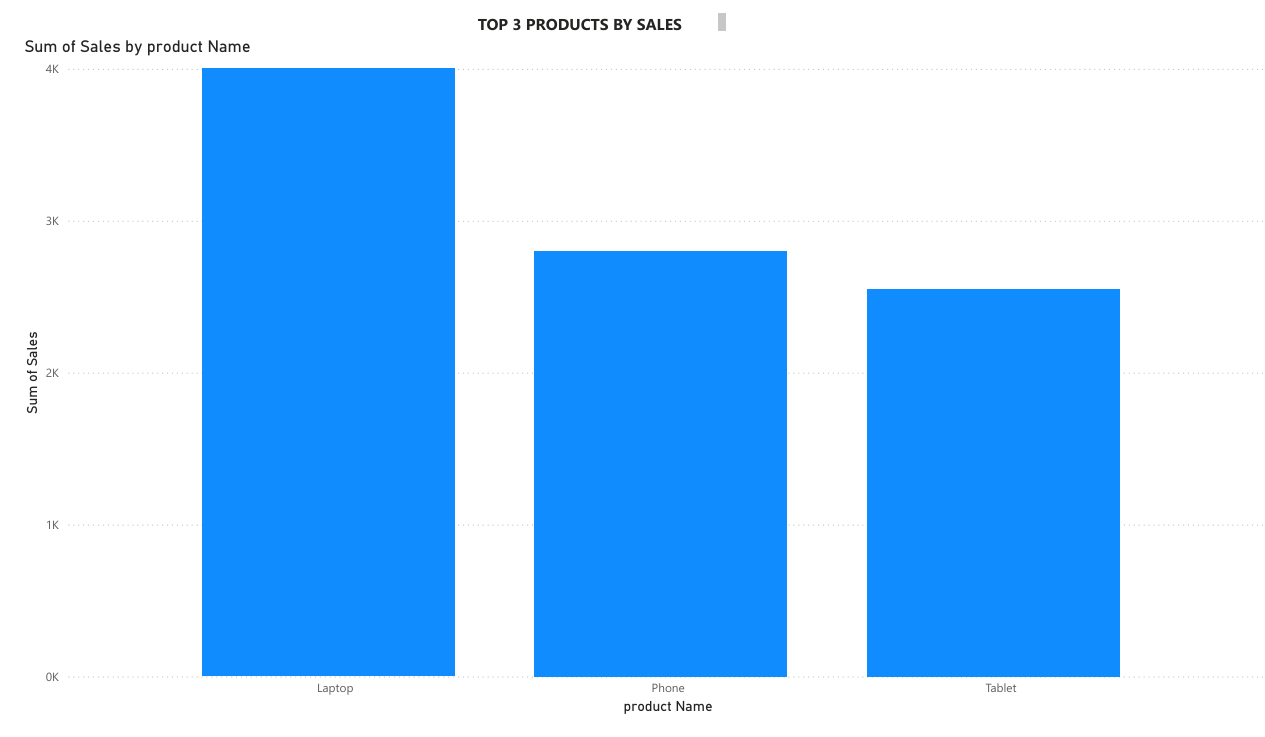

Layout of this report page (visuals, bound fields, positions):
{"tool":"powerbi","page":{"name":"Top3 products by sales","canvas":[1280,720],"ordinal":2},"visuals":[{"type":"clusteredColumnChart","fields":{"Category":["sales_data. product Name"],"Y":["Sum(sales_data.Sales)"]},"box":[10,28,1270,692],"z":0},{"type":"textbox","box":[432,0,300,28],"z":1}]}

Visuals, with their boxes on the page's 1280x720 design canvas (x1, y1, x2, y2). These are canvas units, not pixel positions in the 1265x737 screenshot, which may show the page scaled, cropped or inside an application window:
clusteredColumnChart - sales_data. product Name x Sum(sales_data.Sales): (10, 28, 1280, 720)
textbox: (432, 0, 732, 28)
